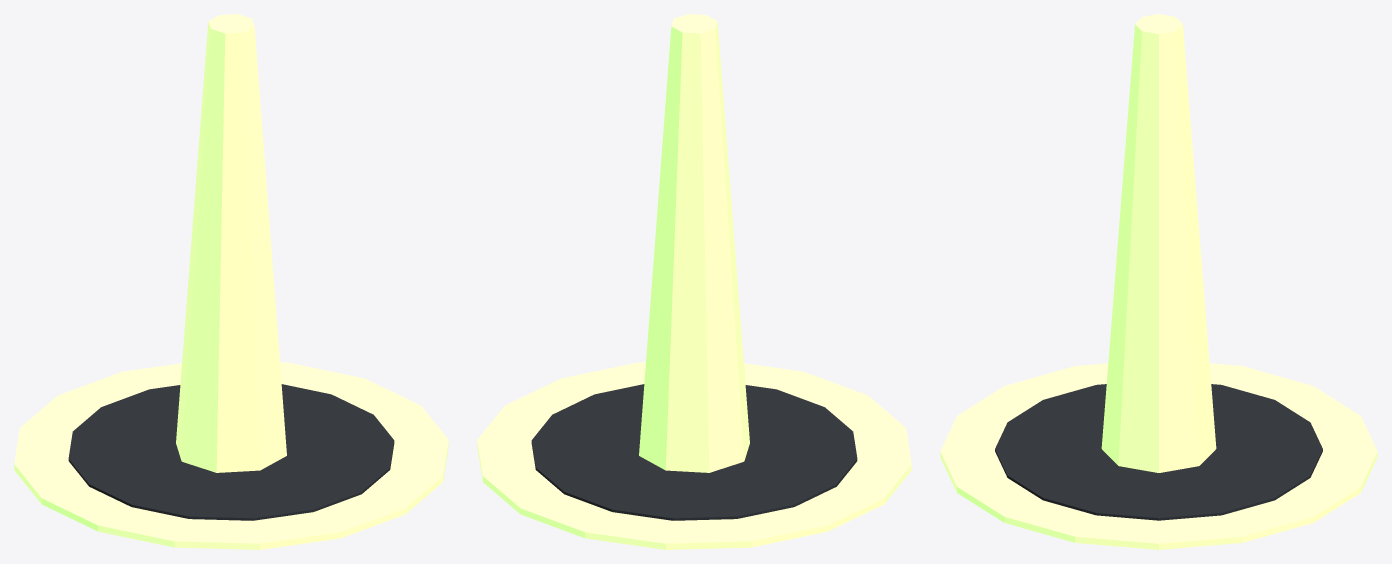
File: beacon.glb
3 views of the same model, side by side, from view 1: azimuth 30°, elevation 25°; view 2: azimuth 150°, elevation 25°; view 3: azimuth 270°, elevation 25° (orthographic).
Visible parts, largest first — view 1: Beacon; view 2: Beacon; view 3: Beacon.
Part boxes in pixels (x1,y1,x2,y2): Beacon: (14,14,448,549); Beacon: (477,14,911,549); Beacon: (940,14,1377,549).
Size of the model in its own units: 6.4 by 7 by 6.4.
